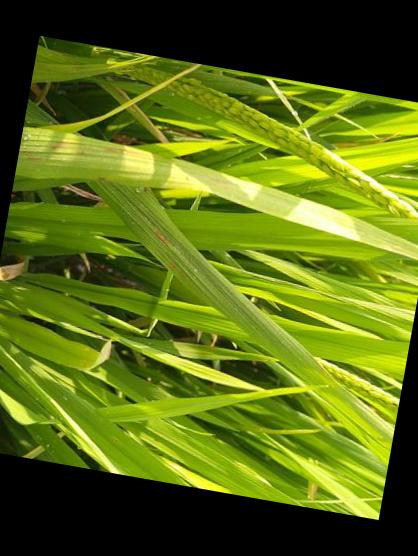Leaf Blight: (0, 258, 26, 281)
Leaf Streak: (19, 129, 418, 261), (151, 229, 171, 250), (167, 259, 180, 274)
